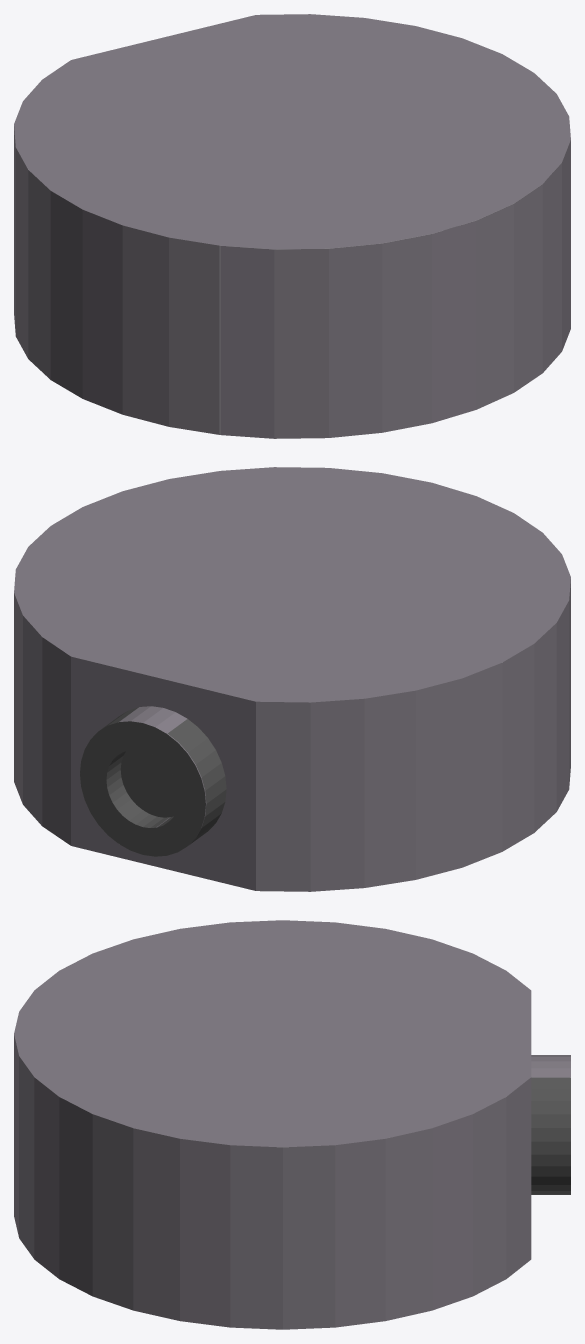
The model's file is bossCore.obj.
3 views of the same model, one above another, from view 1: azimuth 30°, elevation 25°; view 2: azimuth 150°, elevation 25°; view 3: azimuth 270°, elevation 25° (orthographic). The views are drawn at different scales.
Parts seen in each view (by area): view 1: 円柱; view 2: 円柱; view 3: 円柱.
Boxes of the visible parts, box(x1,y1,x2,y2) form: 円柱: box(14, 14, 570, 438); 円柱: box(14, 467, 570, 891); 円柱: box(14, 920, 570, 1329).
Bounding box in the file's own units: 1.4 × 0.5257 × 1.46.
Materials: 1 (1 with a texture image).
